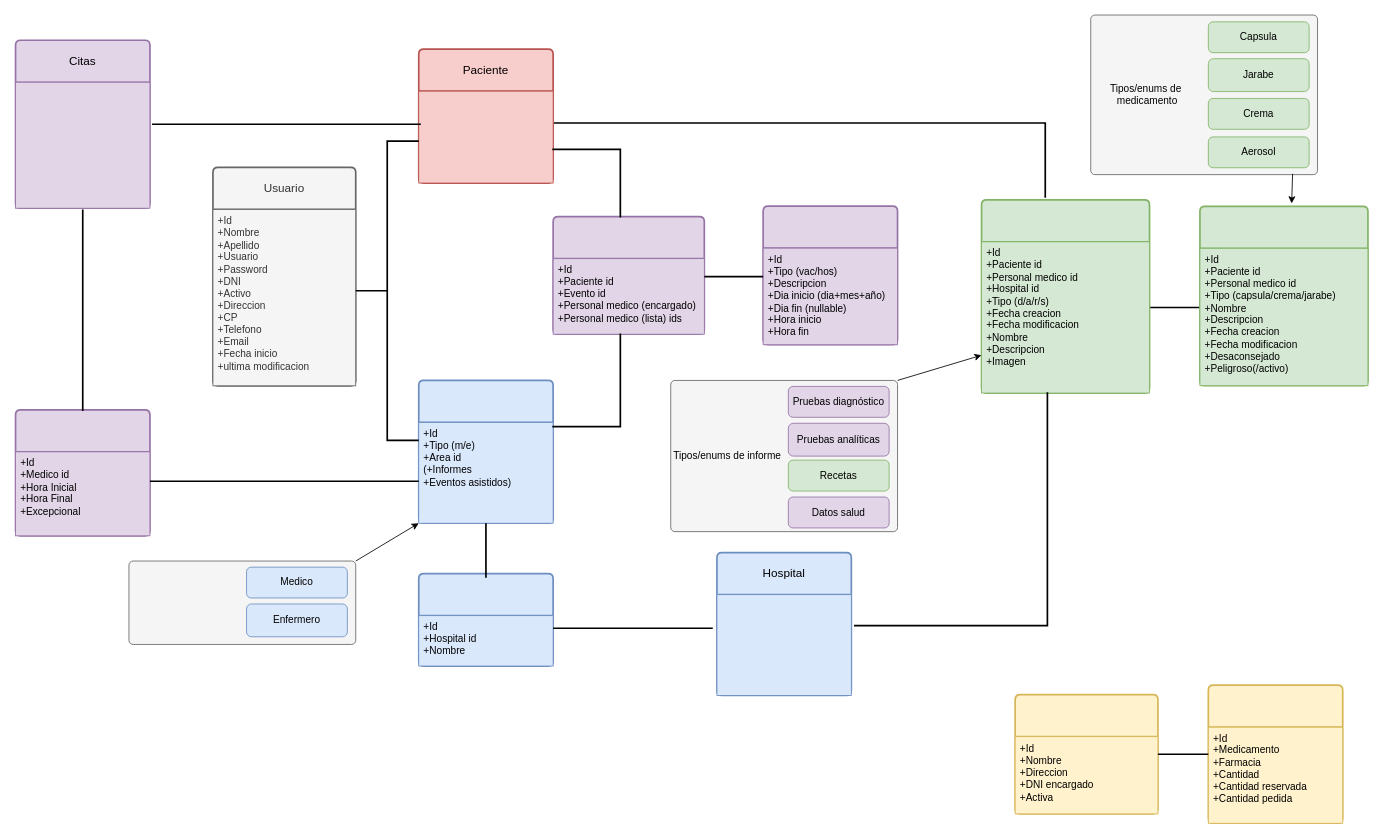
Image size: 1383x838. Some labels were removed from this diagram. The box of each missing label's shape, as (x1, y1, x2, y2) in pixels:
+Id +Baja +Fallecido (+Citas +Informes +Eventos asistidos): (418, 90, 553, 183)
+Id +Nombre +Direccion +Telefono +Email +CP: (716, 594, 851, 695)
+Id +Paciente id +Horario id +Hora cita +Dia cita +Anulado +Asistido: (15, 81, 150, 208)
Area: (417, 572, 554, 666)
Evento: (762, 205, 898, 345)
Evento asistido: (552, 215, 705, 335)
Farmacia: (1014, 693, 1158, 814)
Horarios: (14, 409, 150, 536)
Informe: (980, 199, 1150, 393)
Lista de medicamentos: (1207, 684, 1343, 824)
Medicamento: (1199, 205, 1368, 386)
Personal médico: (417, 379, 554, 524)
Tipos/enums de personal medico: (128, 560, 242, 644)
